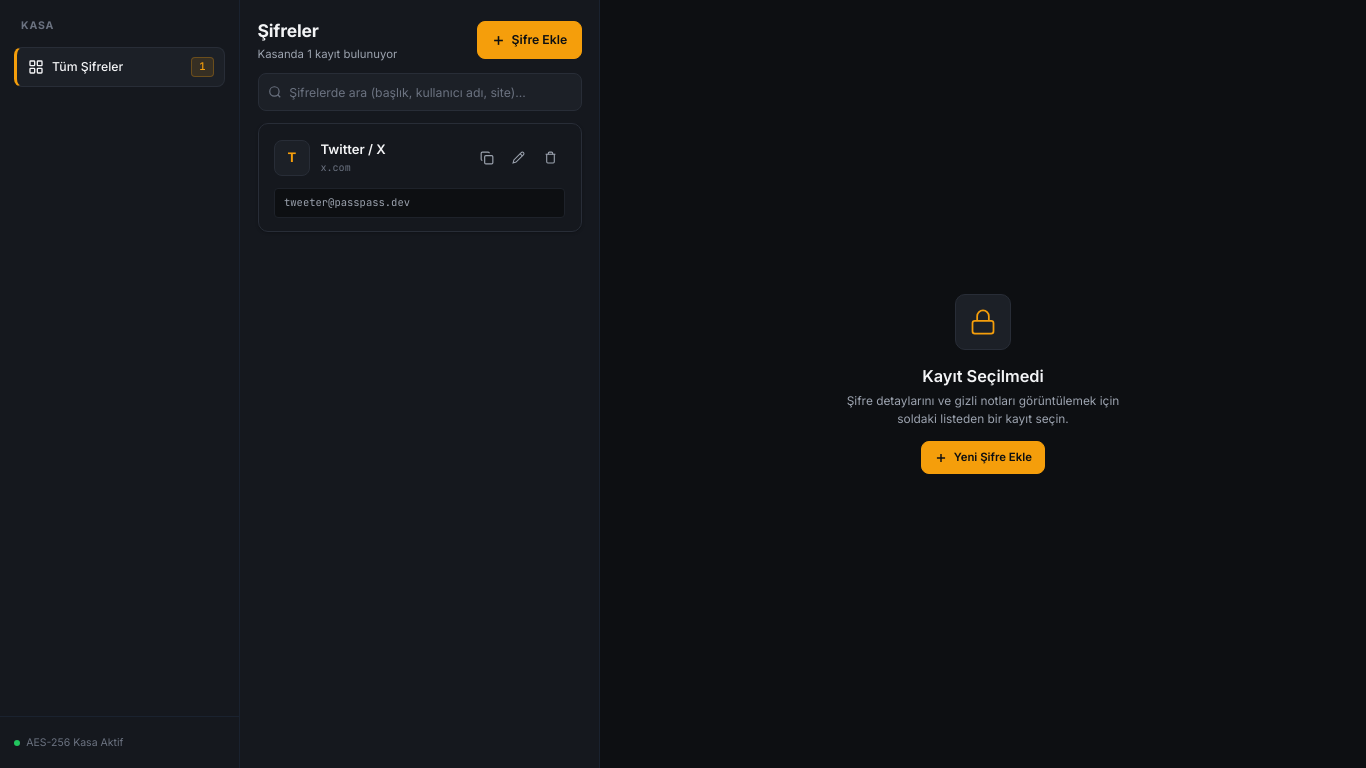
Scenario: VaultPage Component Integration › opens delete confirmation and deletes entry
This screenshot has width=1366, height=768.
Expected: the heading "Twitter / X" is shown, [320,141,386,157]
Click the button named "twitter / x kaydını sil": point(551, 158) [536,145,565,170]
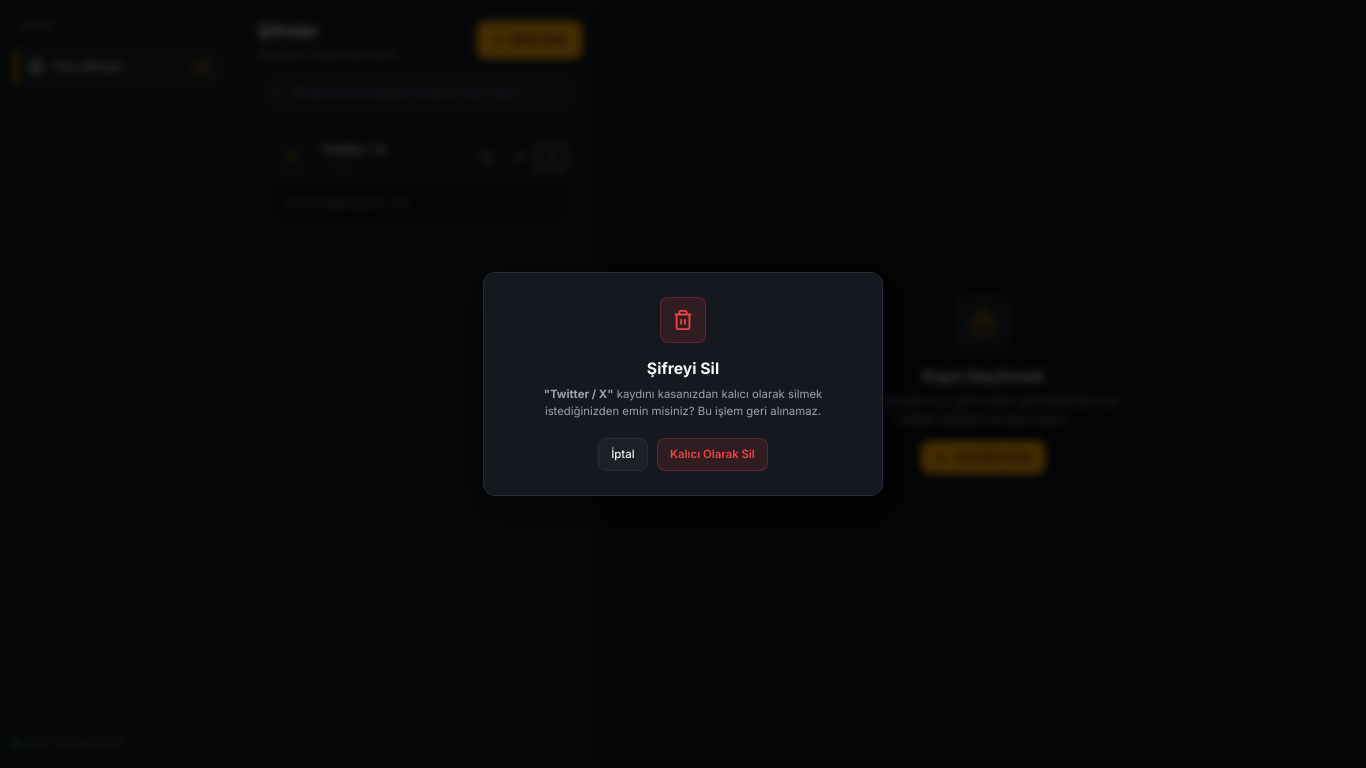
Now the heading "Şifreyi Sil" is shown, box [647,359,719,378]
Click the button "Kalıcı Olarak Sil": point(712, 454) [656,438,768,471]
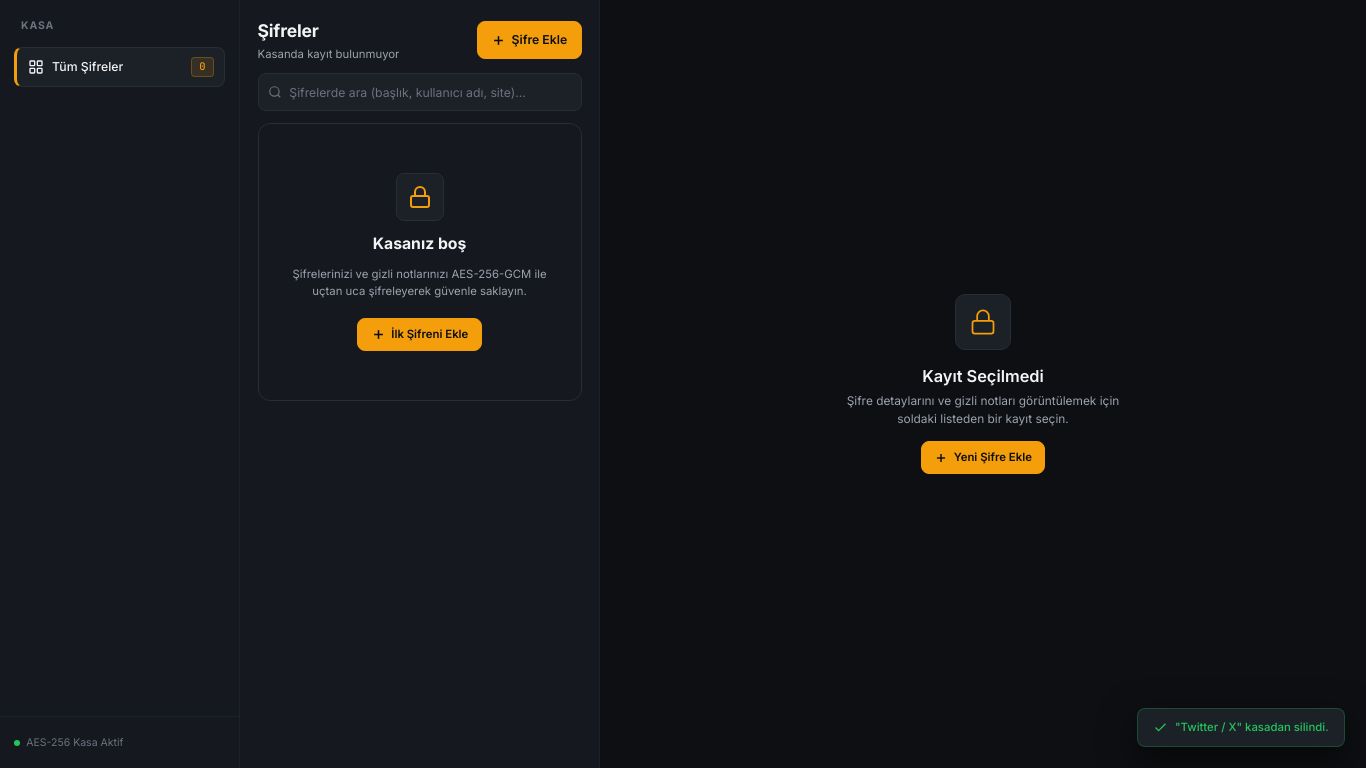
Now the heading "Kasanız boş" is shown, box [373,232,466,255]
